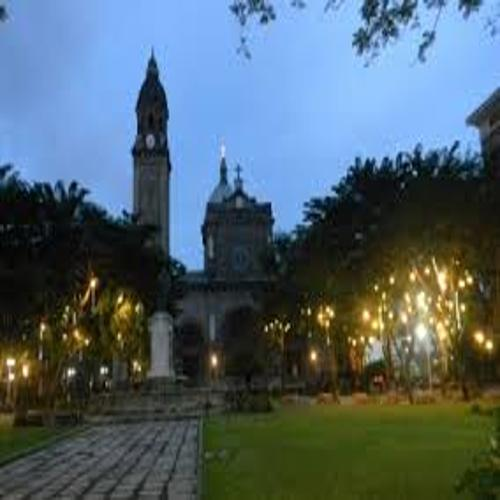Manila Cathedral Church: (74, 43, 303, 401)
